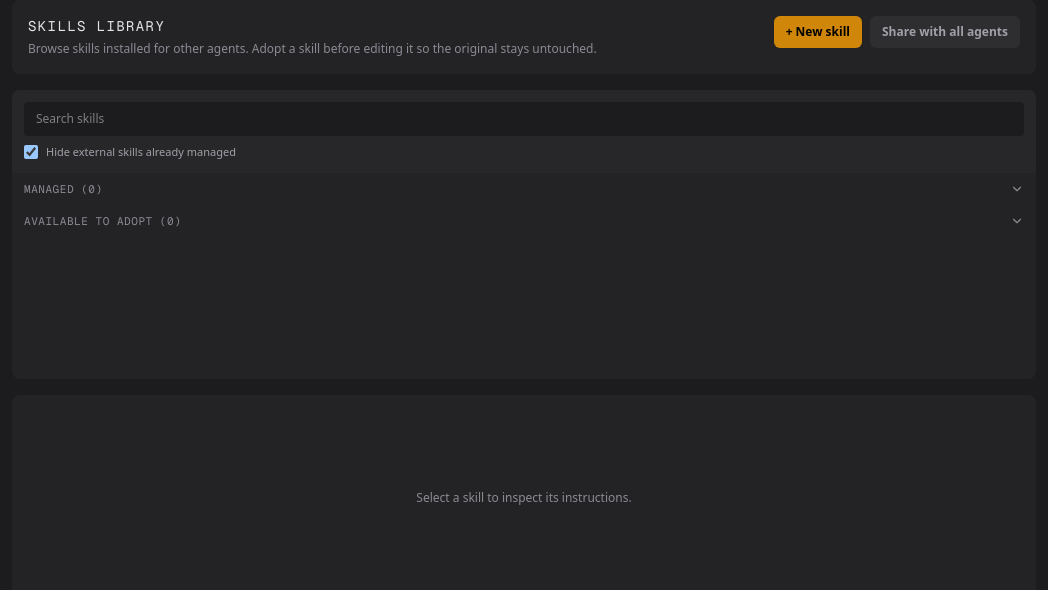
SkillsManager › shares skills with all agents, showing conflicts but not unchanged outcomes
Click the button "Share with all agents" at (945, 32), box 870,16 -> 1020,48
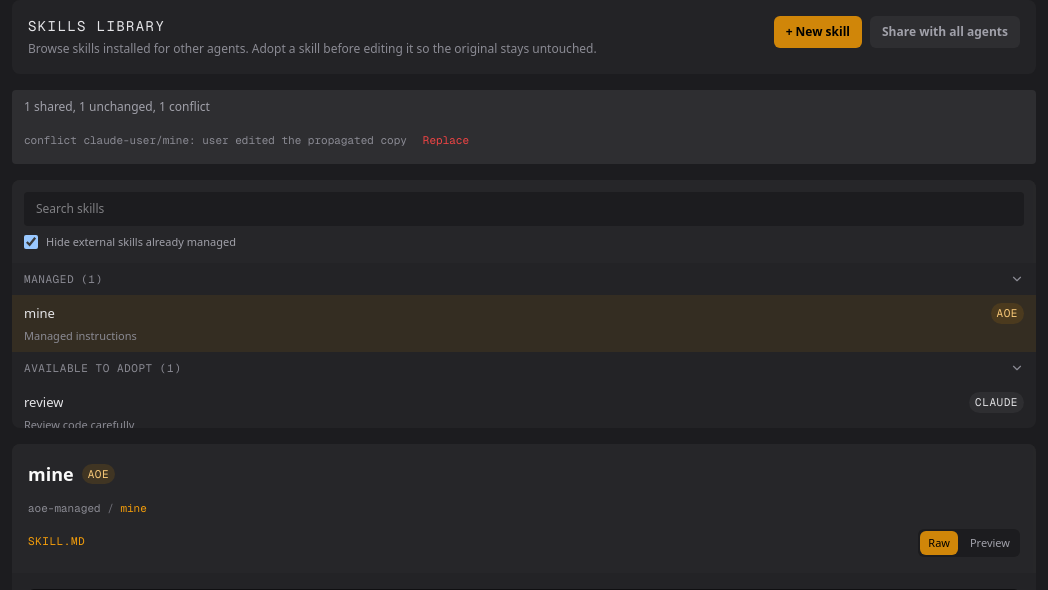
Now the text "1 shared, 1 unchanged, 1 conflict" is shown, box 24,98 -> 210,115
Now the text "conflict claude-user/mine: user edited the propagated copy" is shown, box 24,132 -> 407,148
